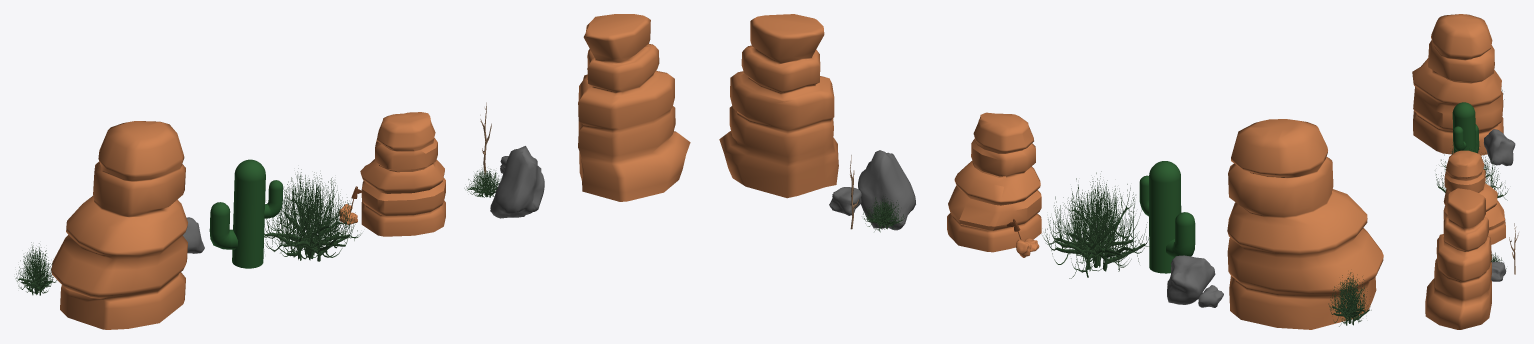
File: EnvSouth_01.fbx
The picture shows the model from 3 angles, left to right: view 1: azimuth 30°, elevation 25°; view 2: azimuth 150°, elevation 25°; view 3: azimuth 270°, elevation 25°; orthographic projection. The views are drawn at different scales.
Parts seen in each view (by area): view 1: Group1186; view 2: Group1186; view 3: Group1186.
Boxes of the visible parts, bbox=[...] form: Group1186: bbox=[15, 14, 690, 329]; Group1186: bbox=[719, 14, 1383, 329]; Group1186: bbox=[1412, 14, 1518, 329].
Bounding box in the file's own units: 1729 × 473 × 341.
